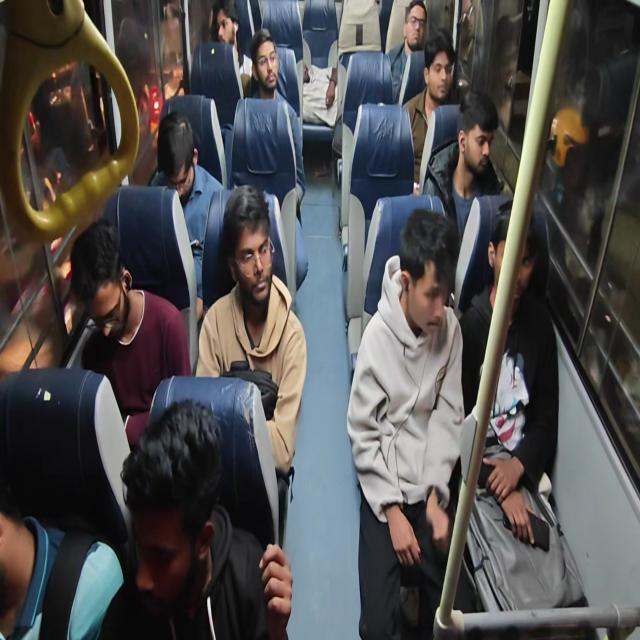person: (457, 203, 588, 613), (346, 207, 465, 638), (98, 398, 293, 638), (195, 183, 307, 482), (69, 217, 192, 451), (0, 499, 124, 639), (151, 110, 224, 317), (422, 88, 503, 244), (246, 28, 306, 217), (402, 29, 456, 192), (111, 16, 160, 185), (297, 0, 338, 125), (248, 28, 297, 116), (387, 0, 427, 105), (488, 14, 522, 135), (210, 0, 252, 97), (453, 1, 482, 94), (158, 2, 184, 99)
